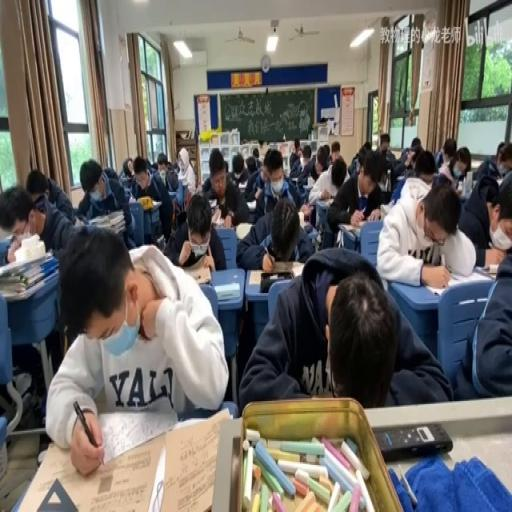calculator: (8, 404, 222, 510), (246, 266, 304, 287), (185, 263, 211, 286), (214, 282, 240, 300), (291, 179, 309, 202), (342, 222, 362, 239), (138, 196, 164, 209), (234, 222, 252, 240), (0, 234, 12, 260), (210, 205, 223, 223), (378, 202, 390, 218), (302, 220, 314, 234), (315, 196, 331, 206), (495, 174, 507, 186), (74, 215, 87, 226), (288, 174, 302, 184), (245, 199, 256, 209), (306, 176, 315, 188), (208, 196, 218, 206), (238, 180, 248, 190), (177, 174, 185, 184), (128, 194, 135, 204)
paper: (236, 246, 443, 414), (2, 175, 94, 394), (378, 176, 478, 288), (235, 188, 313, 267), (75, 156, 136, 250), (165, 189, 226, 269), (325, 152, 379, 238), (128, 155, 174, 240), (478, 172, 512, 267), (0, 185, 35, 243), (376, 134, 402, 179), (176, 148, 195, 202), (226, 151, 249, 193), (412, 148, 438, 182), (434, 138, 456, 173), (349, 145, 368, 174), (474, 161, 499, 182), (164, 159, 179, 191), (288, 138, 302, 168), (332, 159, 346, 189), (103, 166, 120, 184), (157, 152, 169, 174), (122, 158, 134, 178), (330, 140, 340, 164), (251, 145, 261, 166), (496, 140, 506, 160), (458, 159, 468, 178), (379, 172, 389, 191), (322, 142, 330, 165), (410, 136, 421, 150), (396, 148, 407, 162), (302, 145, 310, 161), (261, 166, 268, 184), (362, 141, 372, 151), (152, 161, 159, 169)
person: (374, 422, 451, 461), (474, 264, 492, 278)
